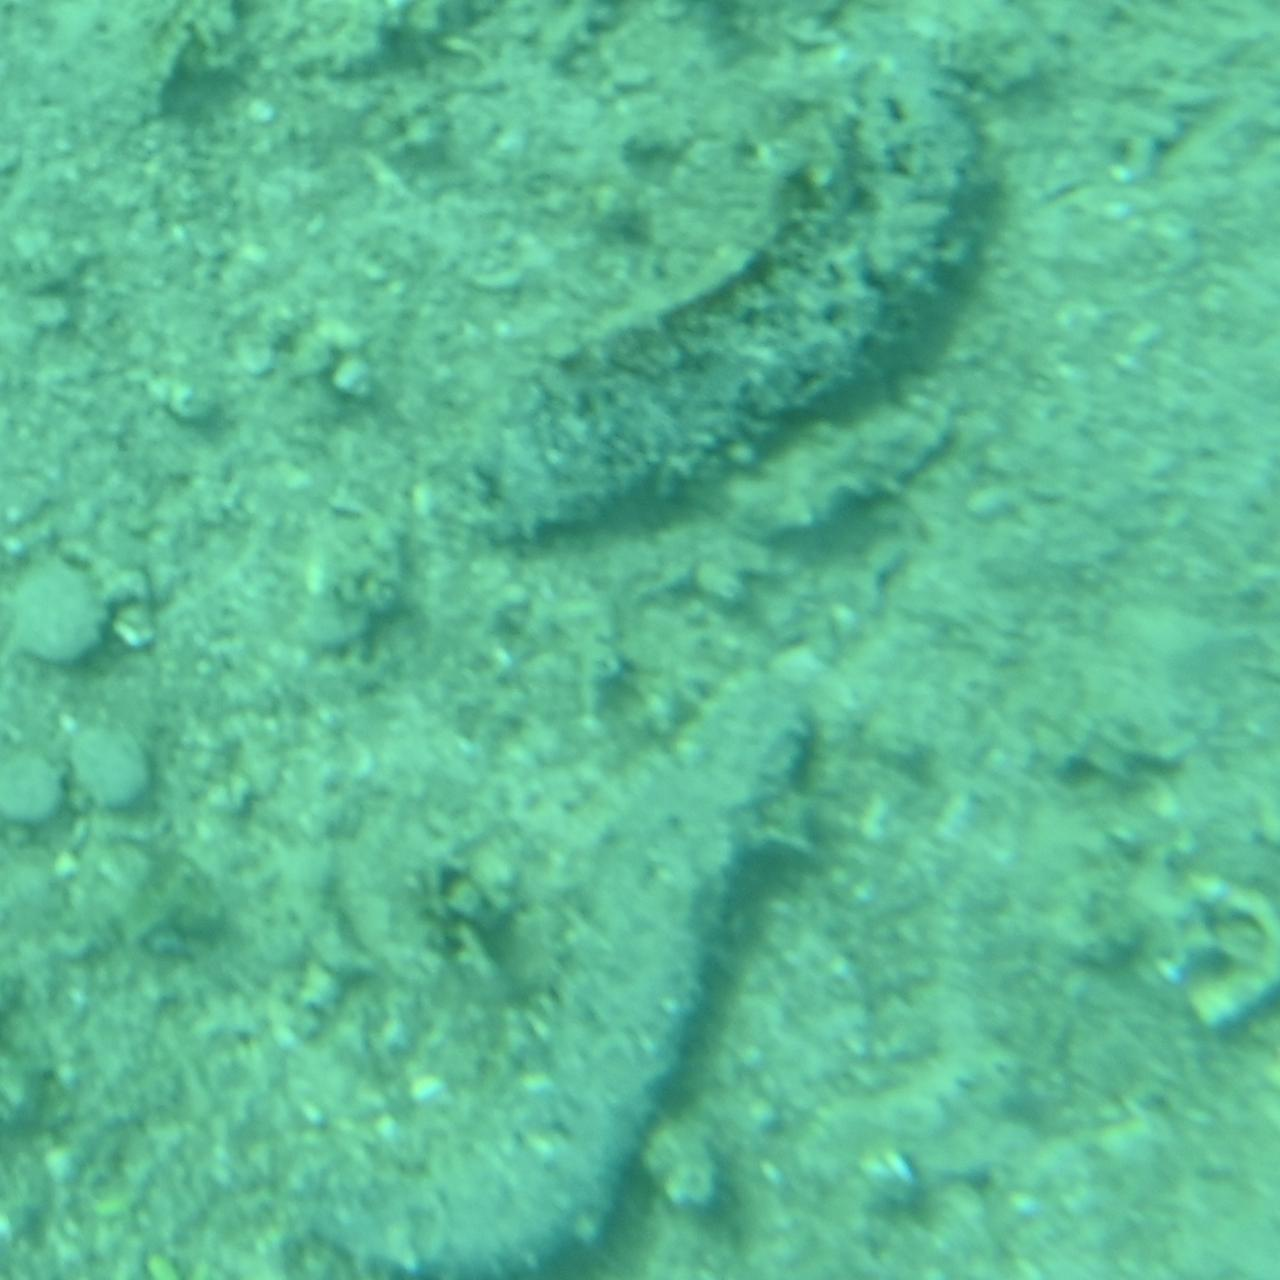Holothuria tubulosa: (286, 652, 838, 1280), (416, 34, 1020, 565)
